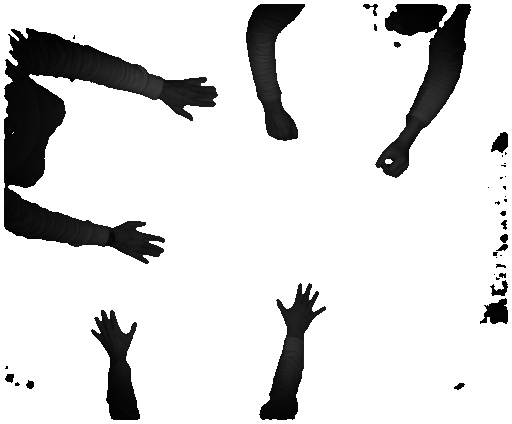fist: (368, 144, 415, 183), (264, 113, 303, 143)
hand: (163, 72, 223, 127), (276, 280, 327, 337), (88, 304, 143, 353), (113, 216, 167, 263)
